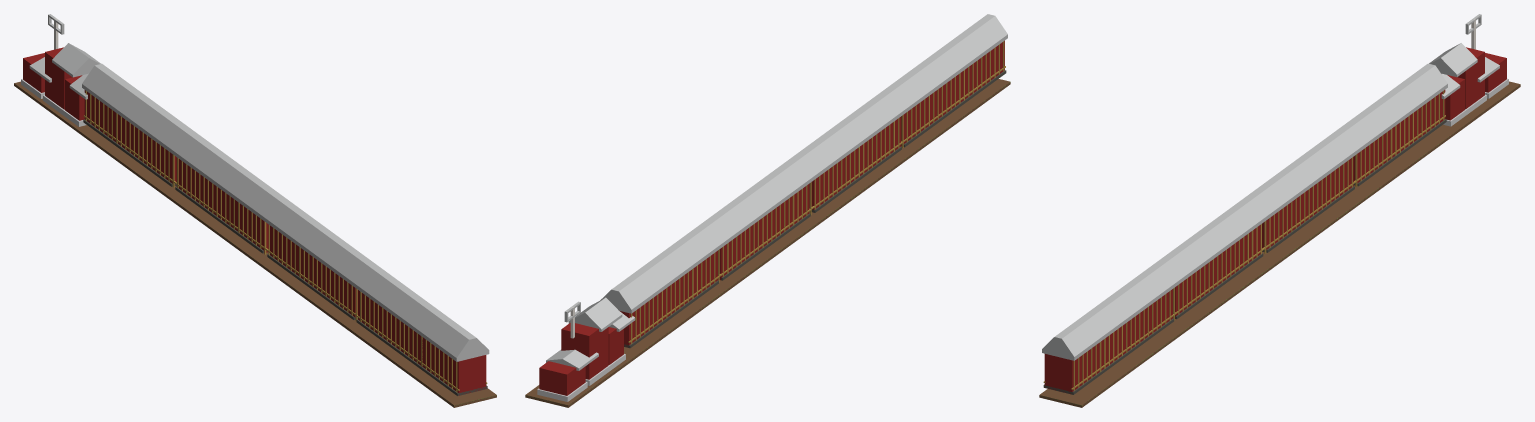
3 renders of one model, left to right at view 1: azimuth 30°, elevation 25°; view 2: azimuth 150°, elevation 25°; view 3: azimuth 330°, elevation 25°, orthographic.
Visible parts, largest first — view 1: gallery; view 2: gallery; view 3: gallery.
Boxes of the visible parts, x1,y1,x2,y2 form: gallery: [14, 14, 496, 407]; gallery: [525, 14, 1010, 407]; gallery: [1039, 14, 1520, 407].
Bounding box in the file's own units: 5.61 × 9.9 × 100.
